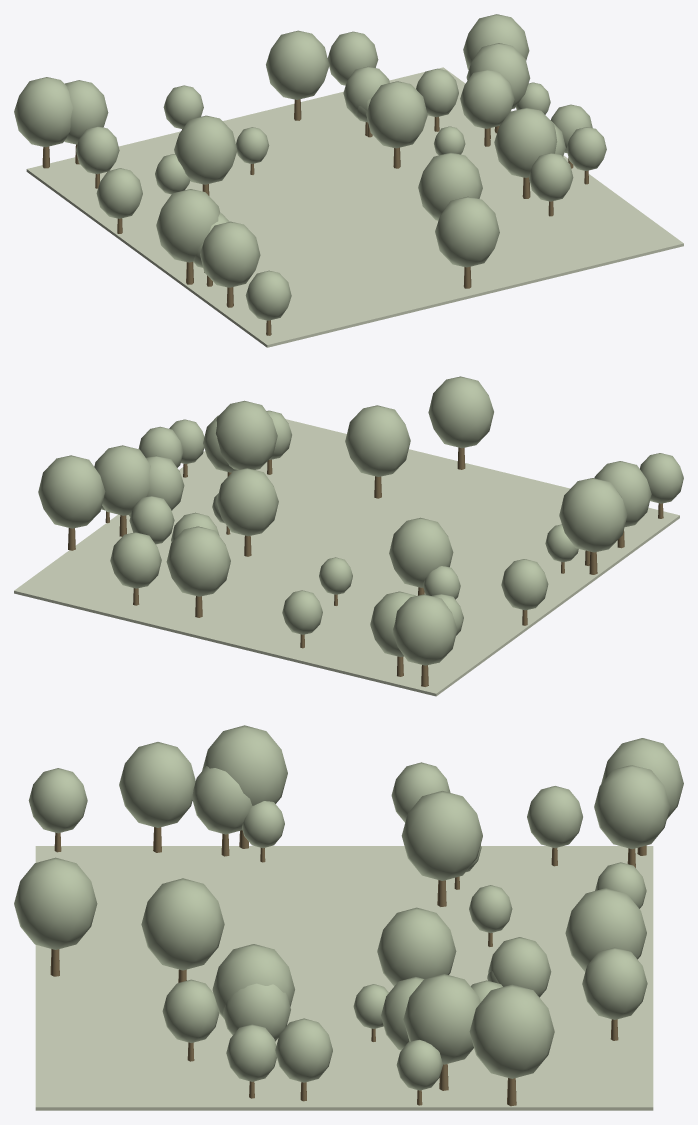
3 views of the same model, one above another, from view 1: azimuth 30°, elevation 25°; view 2: azimuth 150°, elevation 25°; view 3: azimuth 270°, elevation 25° (orthographic). The views are drawn at different scales.
Visible parts, largest first — view 1: terrain, lod-near-19, lod-near-16, lod-near-25, lod-near-30, lod-near-11, lod-near-10, lod-near-20, lod-near-3, lod-near-6, lod-near-28, lod-near-23 (+16 smaller); view 2: terrain, lod-near-11, lod-near-31, lod-near-19, lod-near-6, lod-near-30, lod-near-16, lod-near-20, lod-near-10, lod-near-25, lod-near-23, lod-near-0 (+15 smaller); view 3: terrain, lod-near-31, lod-near-19, lod-near-6, lod-near-25, lod-near-3, lod-near-7, lod-near-23, lod-near-10, lod-near-16, lod-near-11, lod-near-0 (+17 smaller).
Part boxes in pixels (x1=…): terrain: x1=26, y1=67, x2=683, y2=347; lod-near-19: x1=435, y1=196, x2=499, y2=267; lod-near-16: x1=266, y1=30, x2=329, y2=99; lod-near-25: x1=174, y1=115, x2=237, y2=184; lod-near-30: x1=14, y1=77, x2=73, y2=147; lod-near-11: x1=156, y1=189, x2=220, y2=262; lod-near-10: x1=366, y1=81, x2=427, y2=148; lod-near-20: x1=494, y1=107, x2=557, y2=177; lod-near-3: x1=200, y1=221, x2=260, y2=287; lod-near-6: x1=418, y1=152, x2=482, y2=220; lod-near-28: x1=460, y1=70, x2=514, y2=128; lod-near-23: x1=466, y1=43, x2=530, y2=108; terrain: x1=14, y1=419, x2=679, y2=696; lod-near-11: x1=559, y1=478, x2=627, y2=552; lod-near-31: x1=38, y1=455, x2=105, y2=528; lod-near-19: x1=428, y1=376, x2=493, y2=448; lod-near-6: x1=345, y1=405, x2=410, y2=476; lod-near-30: x1=393, y1=594, x2=457, y2=665; lod-near-16: x1=166, y1=526, x2=230, y2=596; lod-near-20: x1=216, y1=400, x2=277, y2=469; lod-near-10: x1=216, y1=468, x2=278, y2=536; lod-near-25: x1=389, y1=517, x2=453, y2=587; lod-near-23: x1=94, y1=445, x2=150, y2=515; lod-near-0: x1=110, y1=532, x2=161, y2=588; terrain: x1=35, y1=846, x2=653, y2=1110; lod-near-31: x1=469, y1=984, x2=554, y2=1078; lod-near-19: x1=14, y1=857, x2=97, y2=949; lod-near-6: x1=141, y1=878, x2=224, y2=970; lod-near-25: x1=401, y1=791, x2=482, y2=880; lod-near-3: x1=119, y1=742, x2=195, y2=827; lod-near-7: x1=594, y1=765, x2=670, y2=849; lod-near-23: x1=403, y1=974, x2=480, y2=1064; lod-near-10: x1=377, y1=907, x2=456, y2=986; lod-near-16: x1=565, y1=888, x2=646, y2=971; lod-near-11: x1=202, y1=725, x2=287, y2=805; lod-near-0: x1=582, y1=947, x2=647, y2=1019.
Size of the model in its own units: 35.98 by 7.09 by 34.71.
